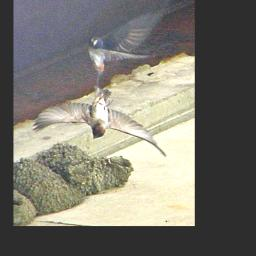Swallow: (30, 83, 169, 159)
